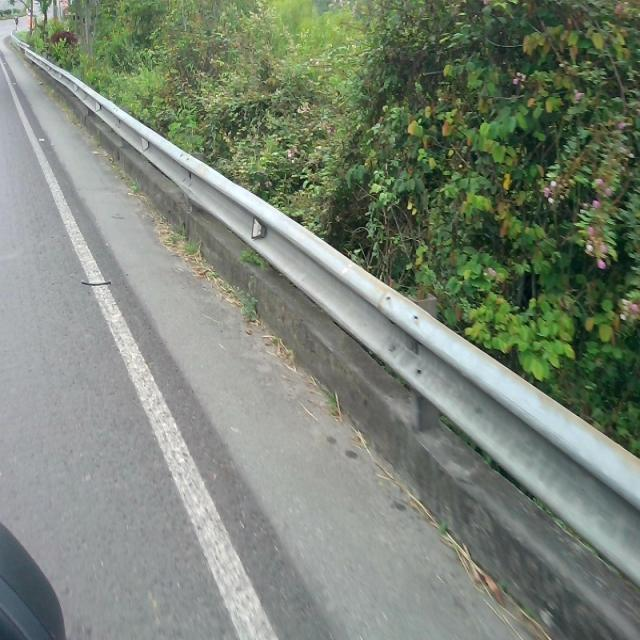DITCH: (2, 27, 638, 639)
